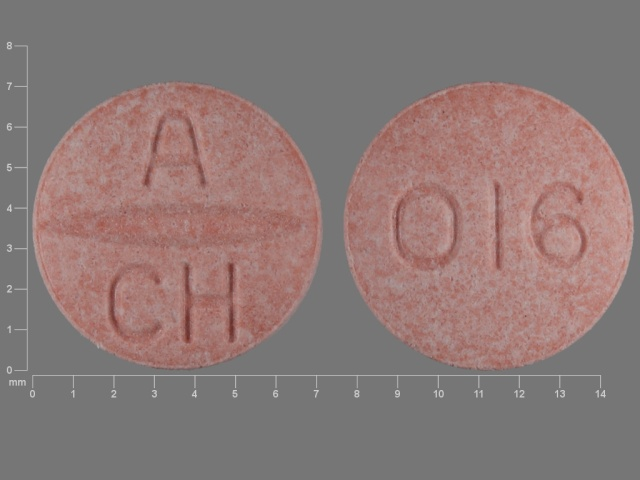0: (387, 177, 469, 279)
1: (484, 178, 517, 274)
6: (525, 180, 593, 272)
A: (139, 109, 214, 192)
C: (103, 257, 168, 352)
H: (178, 257, 248, 352)
|: (32, 208, 324, 249)
